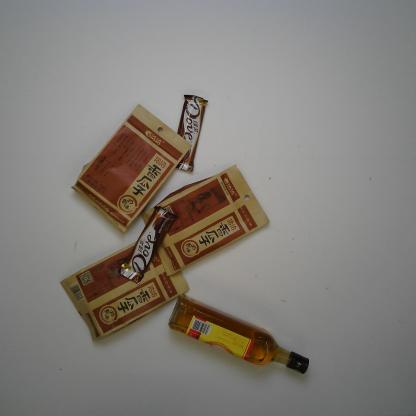Chocolate: (116, 205, 178, 285), (174, 92, 211, 173)
Dried Food: (70, 101, 192, 234), (141, 162, 271, 278), (59, 239, 191, 345)
Seasoner: (167, 292, 310, 376)
